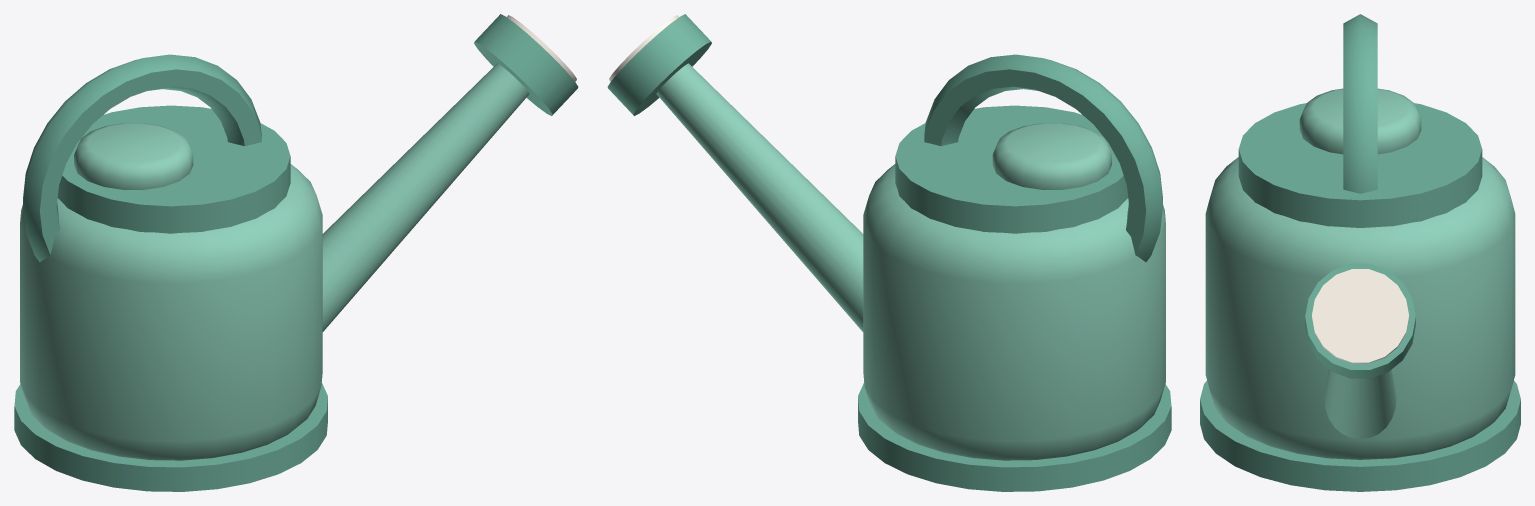
The model's file is watering_can.glb.
3 renders of one model, left to right at view 1: azimuth 30°, elevation 25°; view 2: azimuth 150°, elevation 25°; view 3: azimuth 270°, elevation 25°, orthographic. The views are drawn at different scales.
Visible parts, largest first — view 1: watering_can; view 2: watering_can; view 3: watering_can.
Boxes of the visible parts, x1=… form: watering_can: x1=14, y1=14, x2=578, y2=491; watering_can: x1=607, y1=14, x2=1171, y2=491; watering_can: x1=1200, y1=14, x2=1520, y2=491.
Size of the model in its own units: 0.58 by 0.3811 by 0.29.
